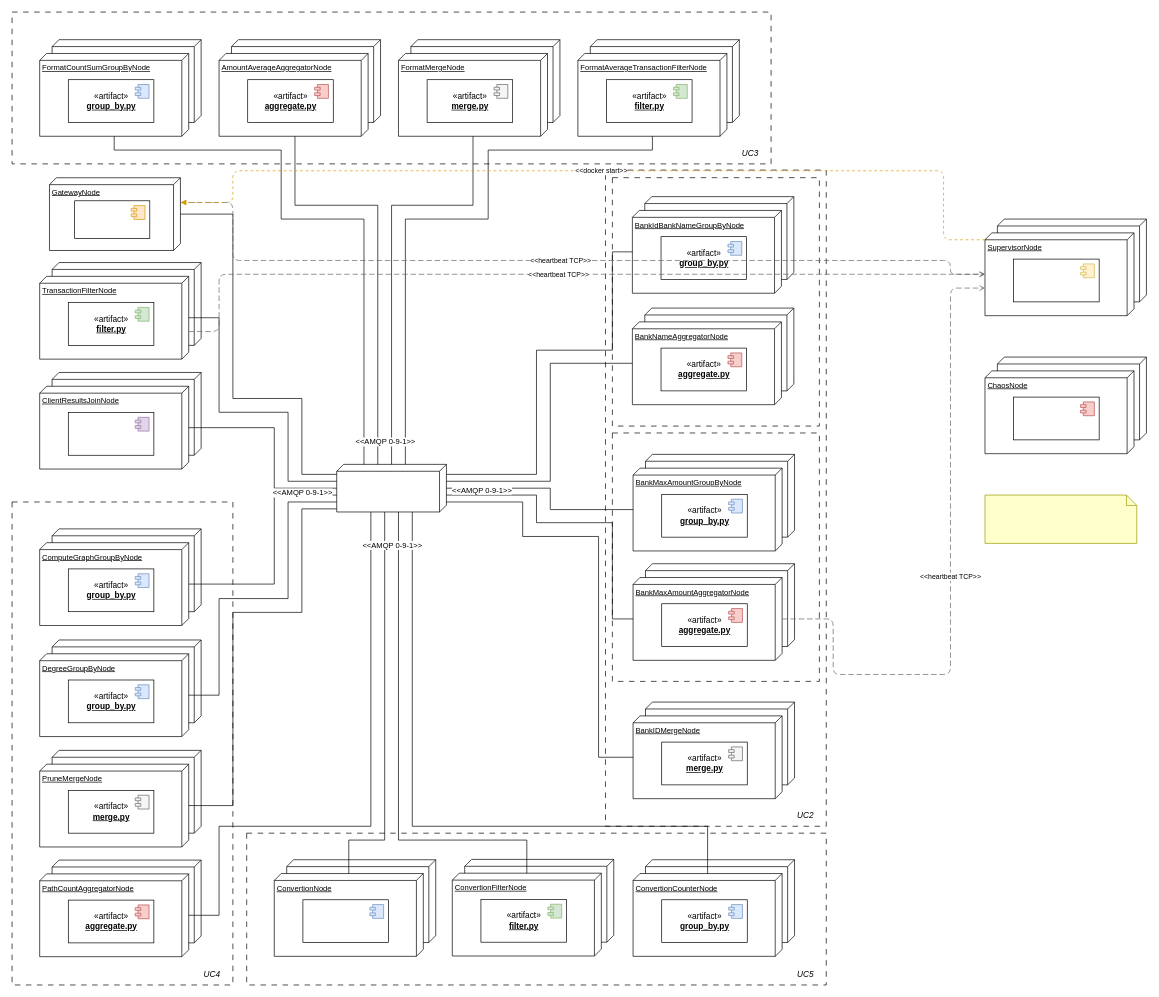
Image size: 1159x997. Some labels were removed from this diagram. The shapes that lost their labels are listed below. From the top down, each one's centre as x and y in pixels, then its label:
At point (112, 219): "«artifact» gateway.py".
At point (1056, 280): "«artifact» supervisor/main.py".
At point (111, 433): "«artifact» join.py".
At point (1056, 418): "«artifact» chaos/main.py".
At point (391, 488): "RabbitMqMiddlewareNode".
At point (1060, 518): "Cada nodo con estado monta un volumen propio para su checkpoint.".
At point (345, 921): "«artifact» usd_converter.py".
